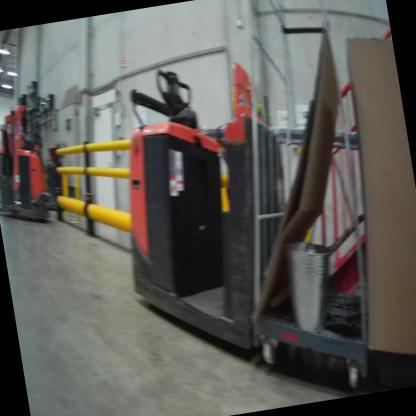forklift: (0, 80, 67, 231), (0, 104, 33, 218)
pallet_truck: (85, 35, 333, 384)
